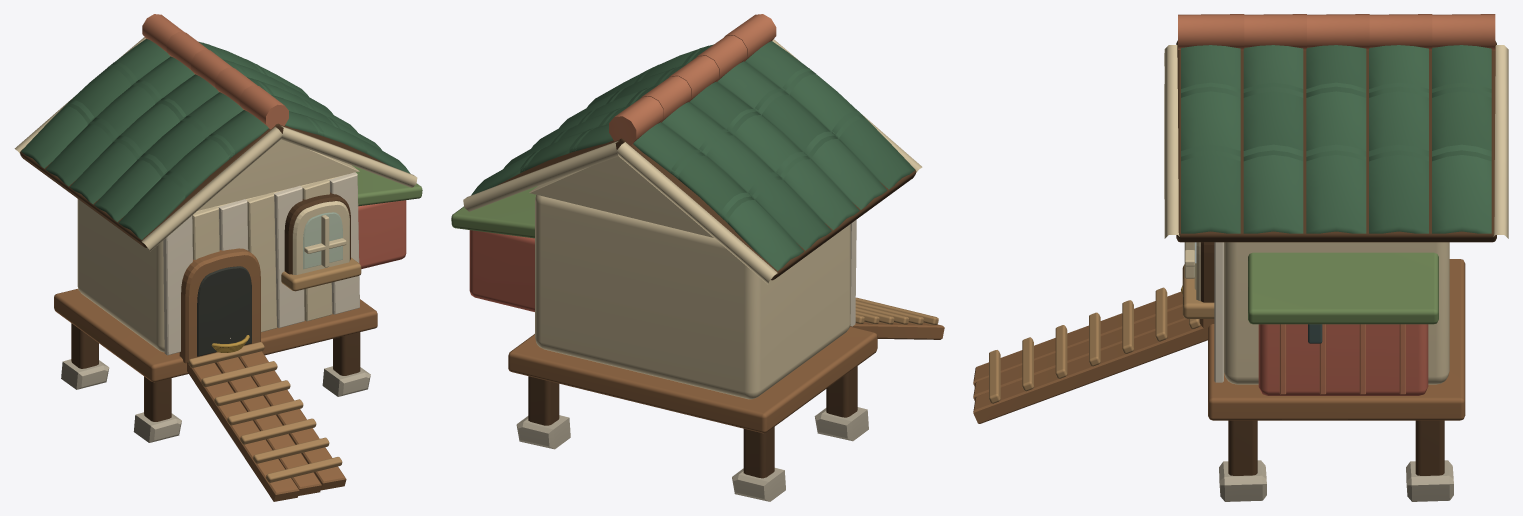
The model's file is gallinero.glb.
3 renders of one model, left to right at view 1: azimuth 30°, elevation 25°; view 2: azimuth 150°, elevation 25°; view 3: azimuth 270°, elevation 25°, orthographic. The views are drawn at different scales.
Parts seen in each view (by area): view 1: gallinero, ga_ventana_vidrio; view 2: gallinero; view 3: gallinero.
Part boxes in pixels (x1,y1,x2,y2): gallinero: (14,14,422,501); ga_ventana_vidrio: (303,212,342,268); gallinero: (451,14,944,501); gallinero: (973,14,1508,501).
Bounding box in the file's own units: 2.36 × 2.37 × 2.75.
